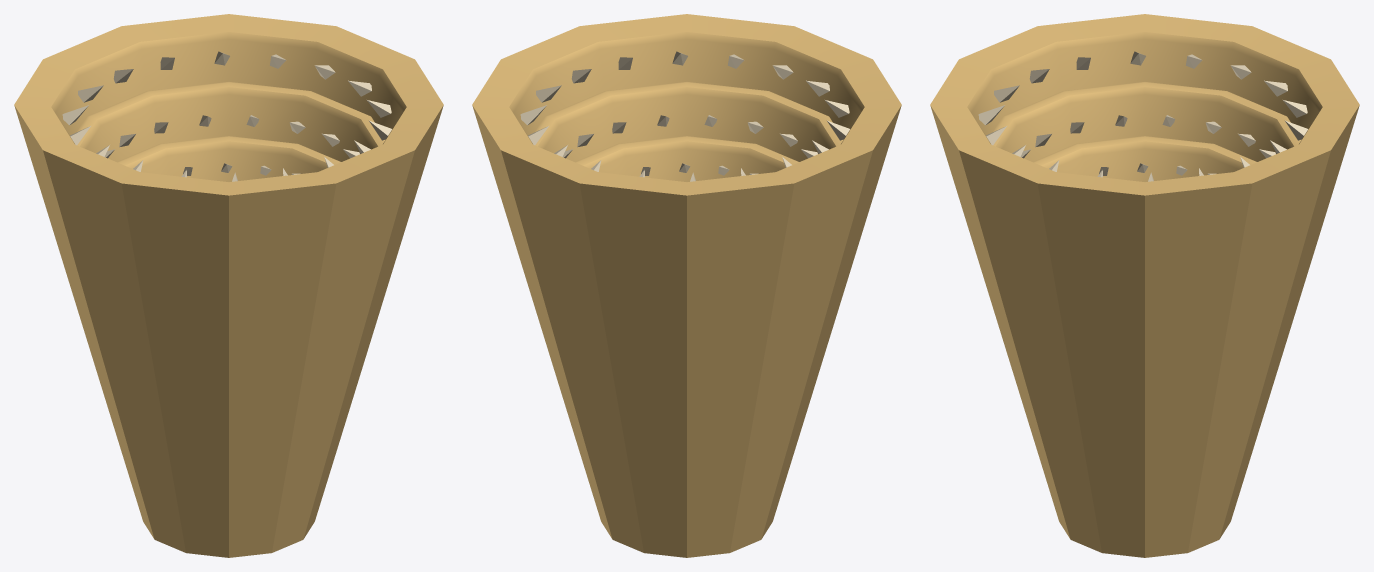
The model's file is QueenButFbx.fbx.
The picture shows the model from 3 angles, left to right: view 1: azimuth 30°, elevation 25°; view 2: azimuth 150°, elevation 25°; view 3: azimuth 270°, elevation 25°; orthographic projection.
Parts seen in each view (by area): view 1: MommaPit; view 2: MommaPit; view 3: MommaPit.
Boxes of the visible parts, left/top/right/bottom form: MommaPit: left=14, top=14, right=443, bottom=557; MommaPit: left=472, top=14, right=901, bottom=557; MommaPit: left=930, top=14, right=1359, bottom=557.
Bounding box in the file's own units: 6.23 × 6.67 × 6.23.
